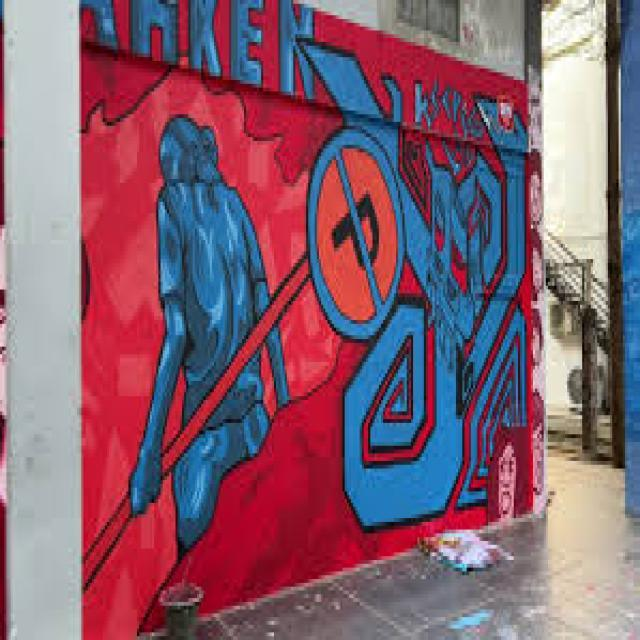-: (80, 0, 532, 640)
